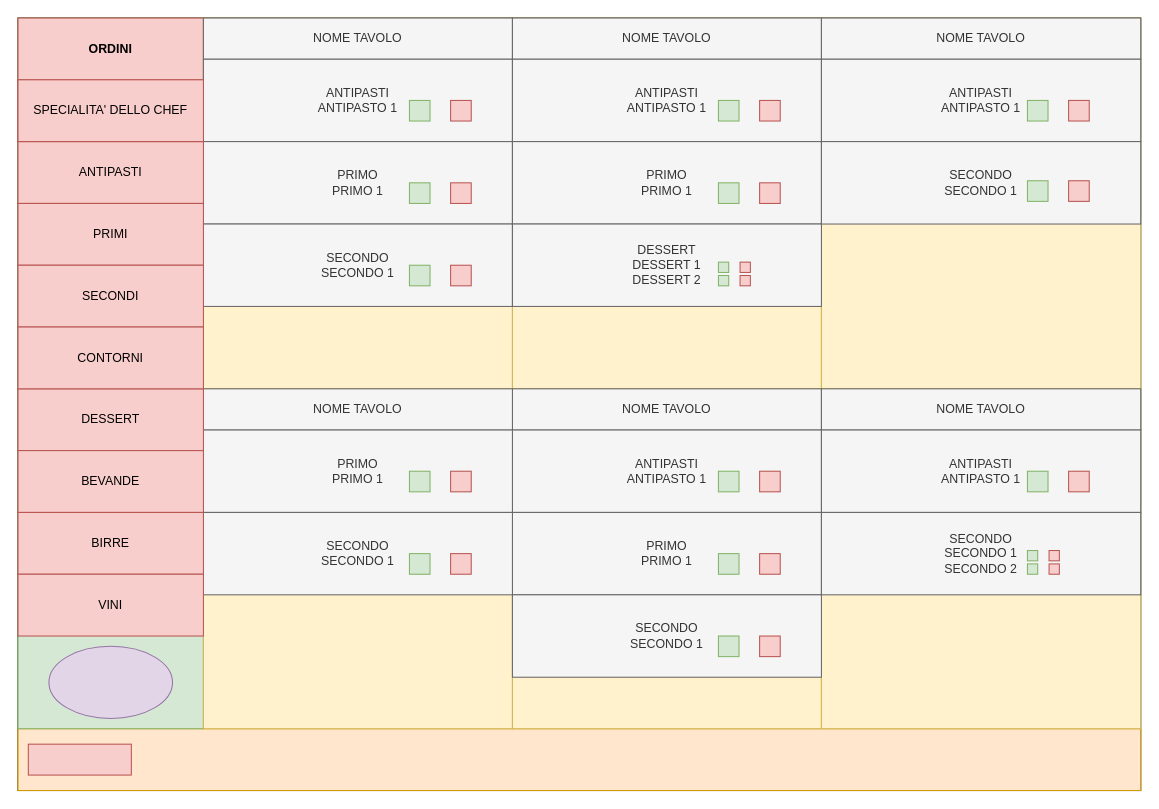
This 1159x809 diagram has some shape labels left out. Each missing label, with the centre of its shape:
"CAMERIERE" belongs at (110,681).
"LOGOUT" belongs at (79,759).
